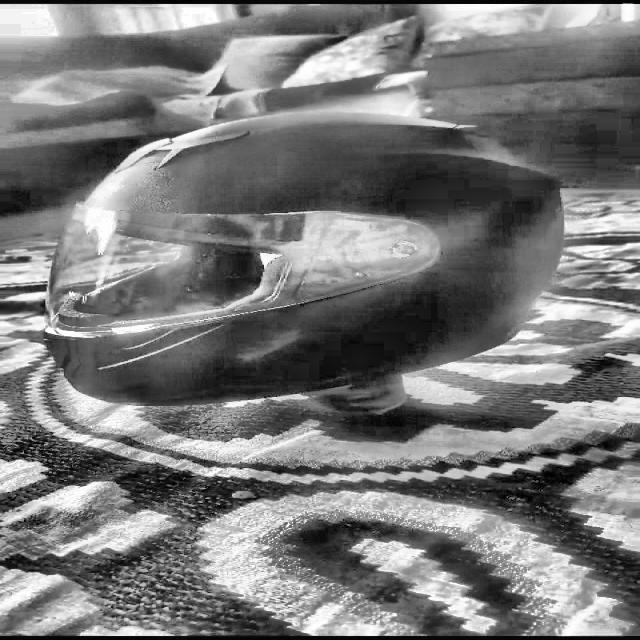Helmet: (49, 104, 582, 435)
